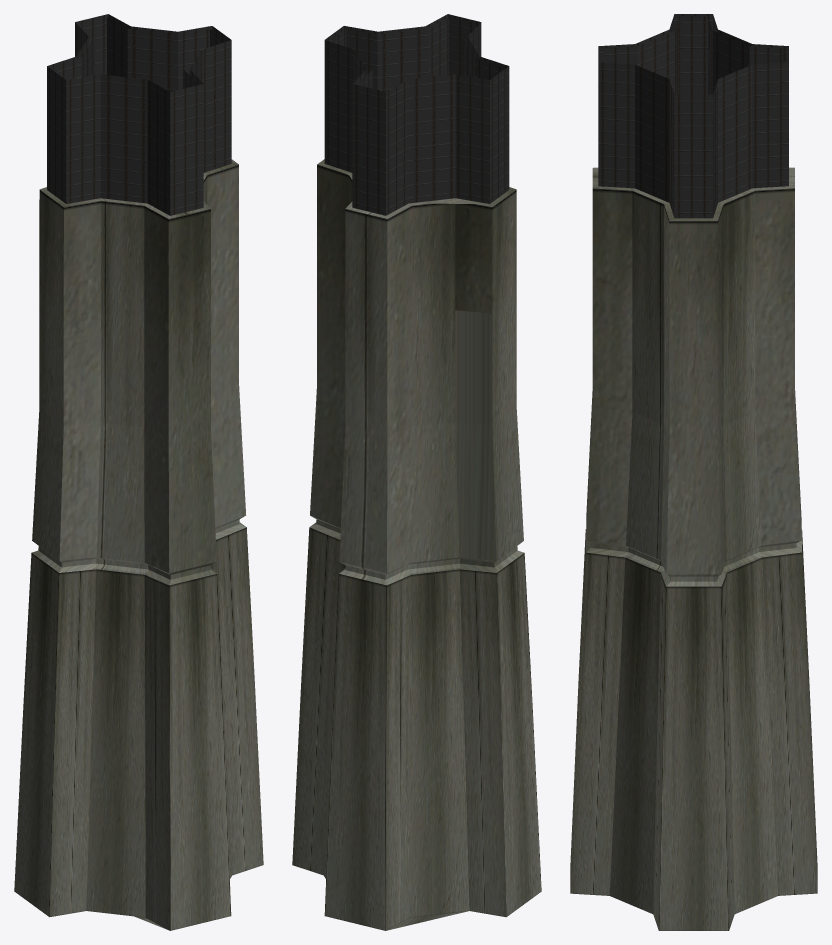
Rendered from column.glb.
3 views of the same model, side by side, from view 1: azimuth 30°, elevation 25°; view 2: azimuth 150°, elevation 25°; view 3: azimuth 270°, elevation 25° (orthographic).
Parts seen in each view (by area): view 1: mesh_167_Mesh_column_subset_0, mesh_167_Mesh_column_subset_1; view 2: mesh_167_Mesh_column_subset_0, mesh_167_Mesh_column_subset_1; view 3: mesh_167_Mesh_column_subset_0, mesh_167_Mesh_column_subset_1.
Boxes of the visible parts, x1,y1,x2,y2 form: mesh_167_Mesh_column_subset_0: (14, 159, 263, 930); mesh_167_Mesh_column_subset_1: (47, 14, 231, 215); mesh_167_Mesh_column_subset_0: (292, 159, 541, 930); mesh_167_Mesh_column_subset_1: (324, 14, 509, 215); mesh_167_Mesh_column_subset_0: (570, 167, 817, 930); mesh_167_Mesh_column_subset_1: (598, 14, 788, 218).
Bounding box in the file's own units: 3.33 × 12.25 × 3.33.
2 materials, 2 textured.
